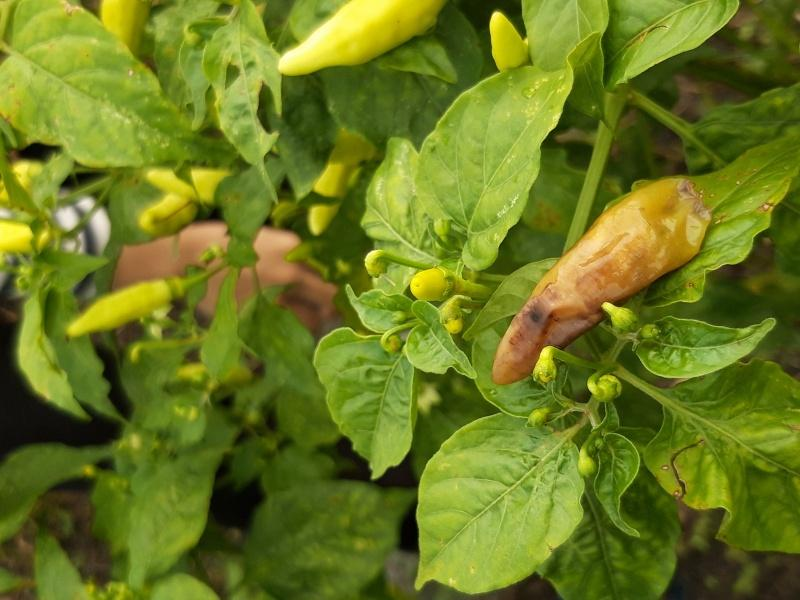cabai_normal: (275, 1, 451, 77), (66, 278, 181, 336), (489, 10, 530, 71)
lalat_buah: (486, 178, 715, 387)
